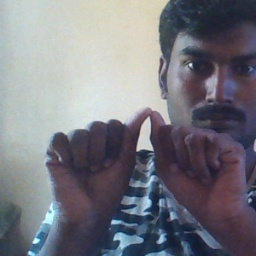A: (60, 106, 229, 211)
